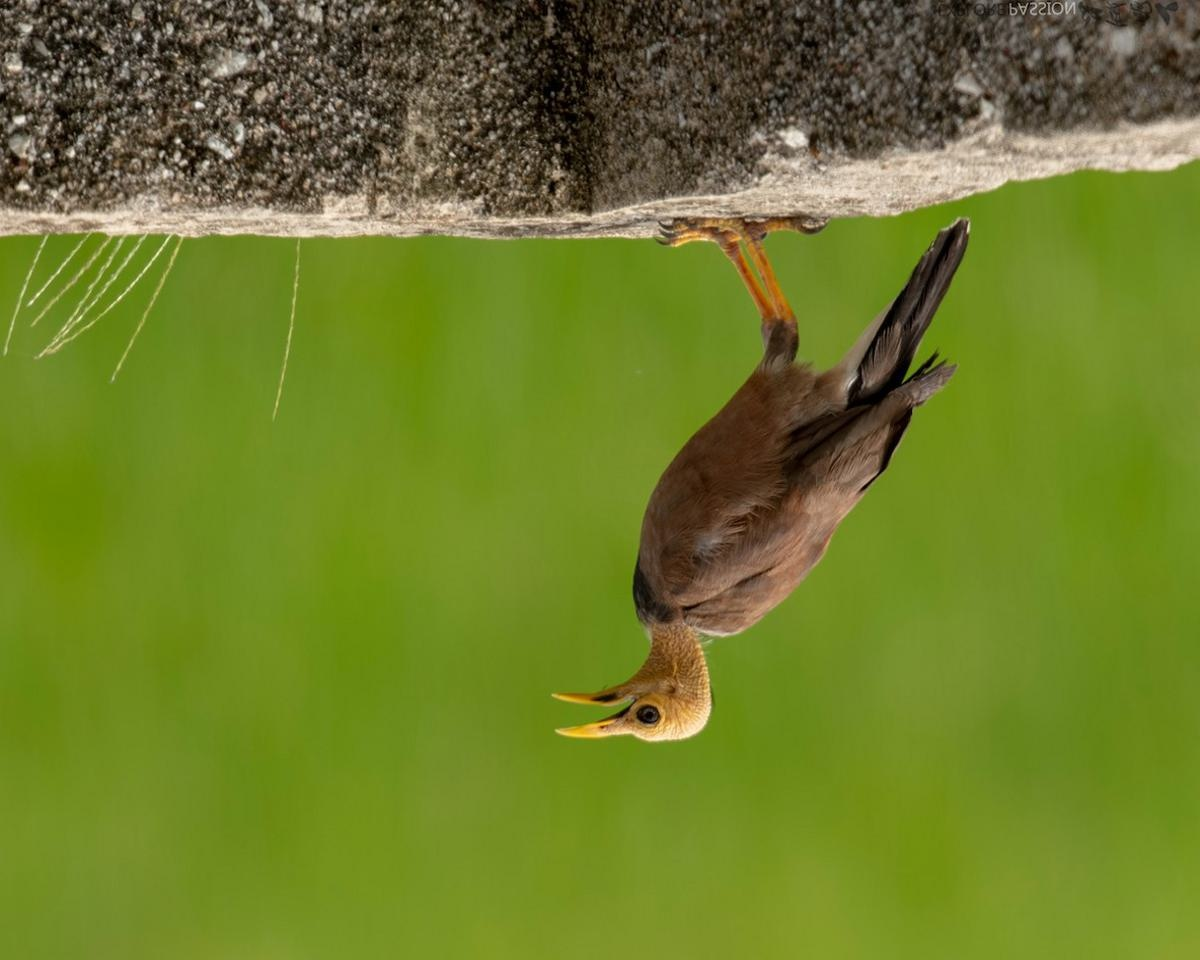myna: (528, 168, 1012, 775)
